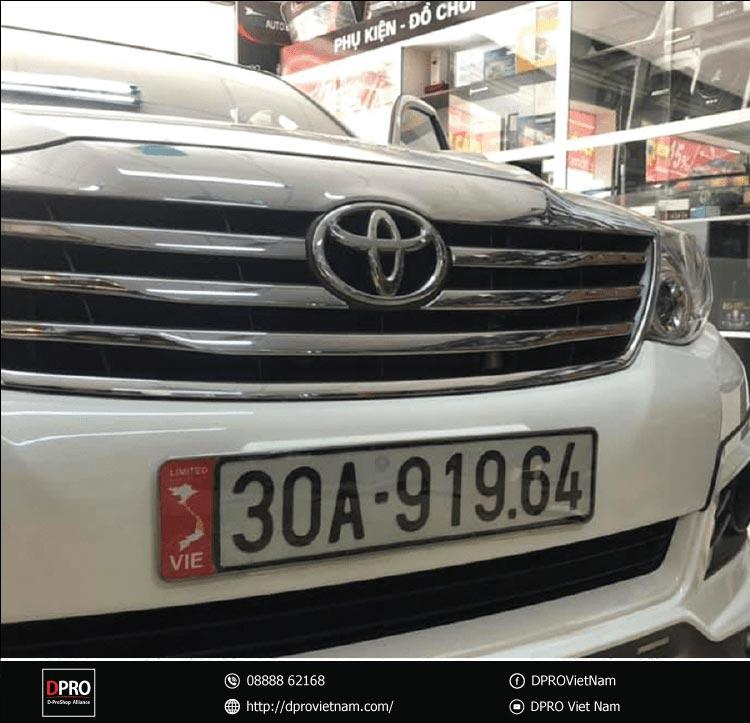numplate: (153, 423, 601, 582)
